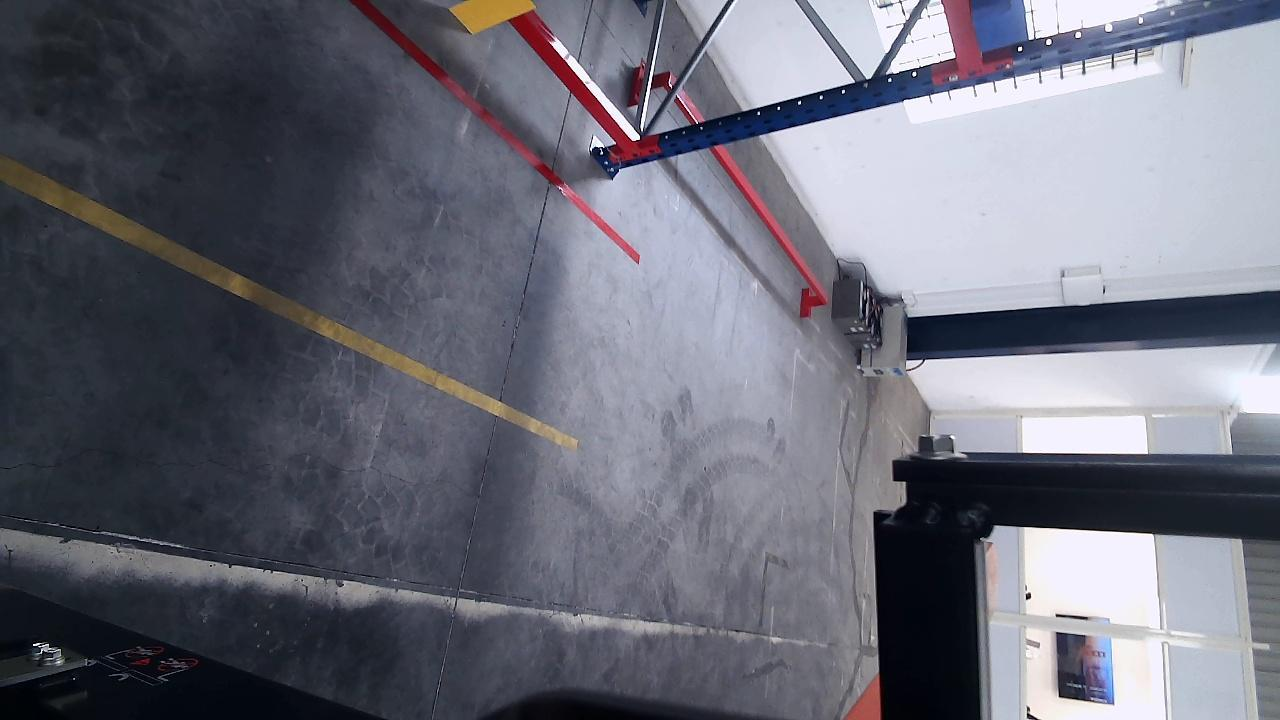h_rack: (483, 0, 636, 143)
orange_strip: (455, 0, 536, 36)
red_line: (346, 0, 641, 264)
